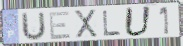1: (158, 6, 170, 36)
E: (48, 10, 72, 40)
L: (101, 9, 122, 36)
U: (123, 6, 153, 38), (21, 10, 47, 42)
X: (73, 8, 99, 39)
